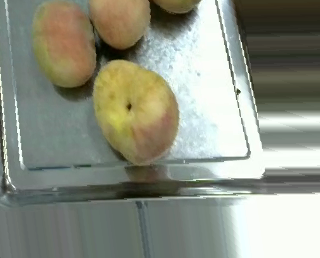Peach: (92, 58, 178, 165), (31, 1, 96, 88)
